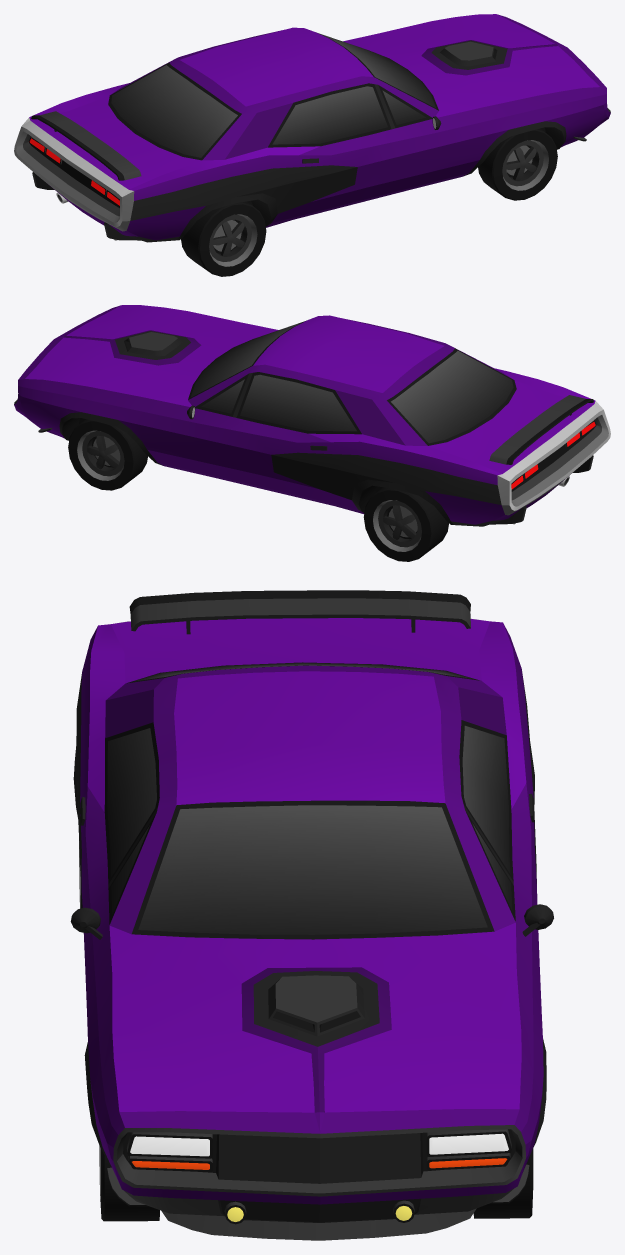
The model's file is Car_148.glb.
3 views of the same model, one above another, from view 1: azimuth 30°, elevation 25°; view 2: azimuth 150°, elevation 25°; view 3: azimuth 270°, elevation 25° (orthographic). The views are drawn at different scales.
Parts seen in each view (by area): view 1: Car_148, wheel_3_Car_148_Wheel_2R, wheel_1_Car_148_Wheel_1R; view 2: Car_148, wheel_2_Car_148_Wheel_2L, wheel_0_Car_148_Wheel_1L; view 3: Car_148, wheel_1_Car_148_Wheel_1R, wheel_0_Car_148_Wheel_1L.
Part boxes in pixels (x1,y1,x2,y2): Car_148: [14, 14, 610, 242]; wheel_3_Car_148_Wheel_2R: [181, 201, 266, 276]; wheel_1_Car_148_Wheel_1R: [478, 128, 557, 200]; Car_148: [14, 305, 610, 526]; wheel_2_Car_148_Wheel_2L: [363, 487, 448, 561]; wheel_0_Car_148_Wheel_1L: [68, 419, 147, 490]; Car_148: [70, 590, 553, 1240]; wheel_1_Car_148_Wheel_1R: [99, 1146, 159, 1221]; wheel_0_Car_148_Wheel_1L: [473, 1148, 533, 1218].
Size of the model in its own units: 4.89 by 1.36 by 2.01.
Materials: 2 (2 with a texture image).
